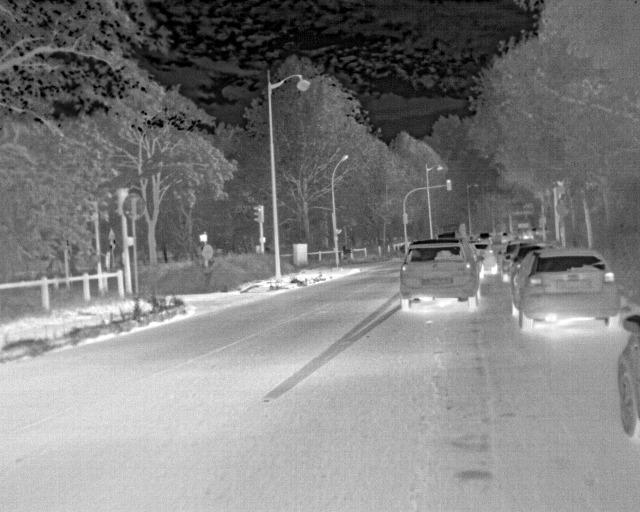car: (509, 247, 620, 332), (400, 239, 484, 311), (617, 314, 639, 440), (505, 244, 553, 286), (498, 242, 532, 281), (466, 238, 497, 275), (439, 223, 469, 247), (479, 232, 493, 245), (494, 232, 509, 243)
light: (254, 205, 262, 222), (446, 179, 452, 191), (403, 213, 408, 224)
sign: (122, 192, 145, 220), (118, 188, 129, 215), (556, 202, 569, 216), (202, 245, 213, 259), (108, 240, 116, 251), (108, 228, 115, 240), (518, 223, 528, 228), (200, 235, 207, 241), (539, 217, 546, 223)
